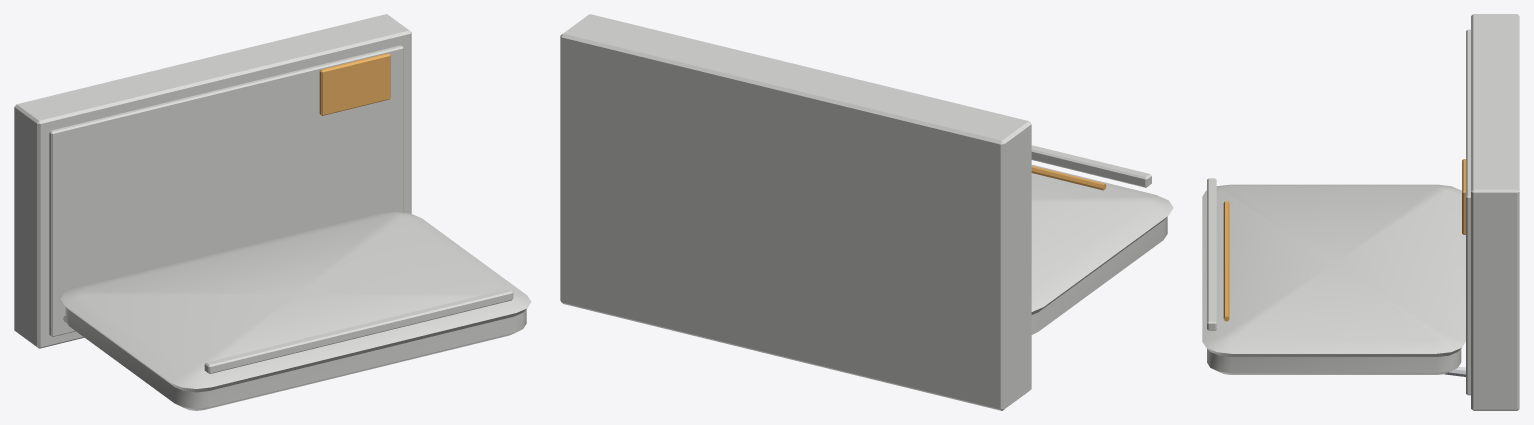
The model's file is office-lobby-and-facilities-baby-change-unit-9b900116.glb.
The picture shows the model from 3 angles, left to right: view 1: azimuth 30°, elevation 25°; view 2: azimuth 150°, elevation 25°; view 3: azimuth 270°, elevation 25°; orthographic projection. The views are drawn at different scales.
Parts seen in each view (by area): view 1: baby-change-unit, change-table/carcass; view 2: baby-change-unit, change-table/carcass, change-table/accent; view 3: change-table/carcass, baby-change-unit, change-table/accent.
Boxes of the visible parts, x1,y1,x2,y2 form: baby-change-unit: (14, 14, 411, 348); change-table/carcass: (61, 212, 531, 410); baby-change-unit: (560, 14, 1031, 410); change-table/carcass: (1031, 145, 1173, 334); change-table/accent: (1031, 166, 1106, 190); change-table/carcass: (1202, 178, 1465, 374); baby-change-unit: (1462, 14, 1519, 410); change-table/accent: (1223, 201, 1229, 321).
Size of the model in its own units: 0.86 by 0.5 by 0.65.
